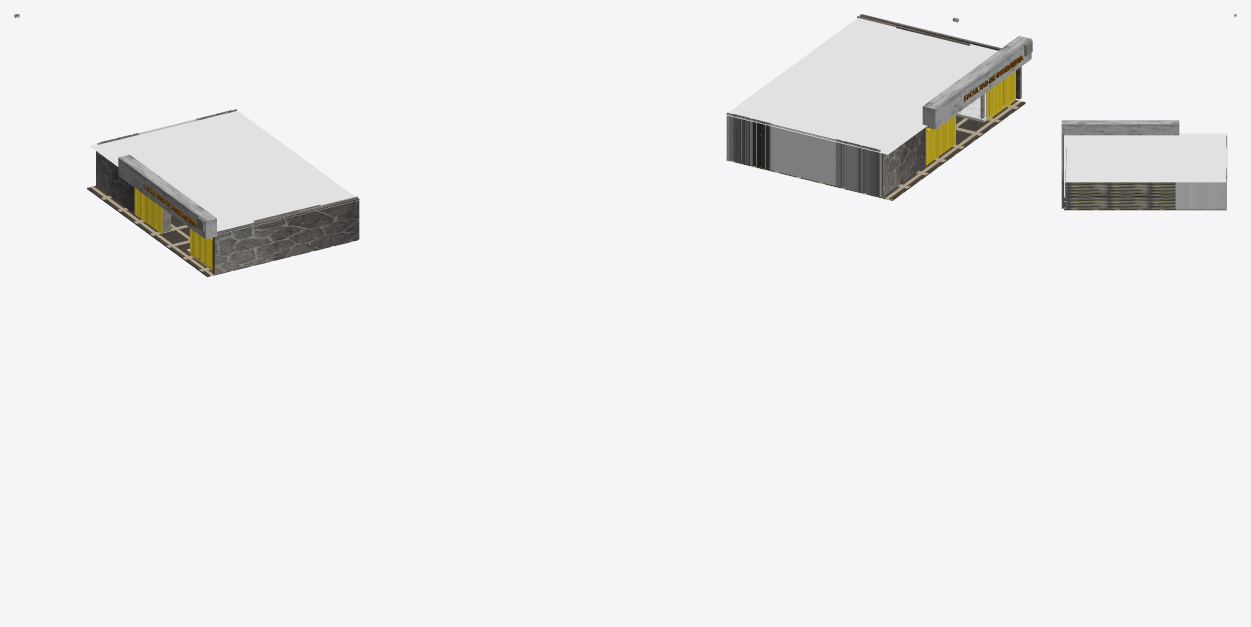
Rendered from explanadafi.obj.
3 renders of one model, left to right at view 1: azimuth 30°, elevation 25°; view 2: azimuth 150°, elevation 25°; view 3: azimuth 270°, elevation 25°, orthographic. The views are drawn at different scales.
Visible parts, largest first — view 1: Cuarto.001, Cube.005, Cube.007, PisoBase, Cube.003; view 2: Cuarto.001, Cube.007, ParedAuditorio, PisoBase, ParedAuditorio.001, ParedAuditorio.002, Cube.003, Cube.005; view 3: Cuarto.001, Cube.004, Cube.007, Cube.009, PisoBase.
Part boxes in pixels (bbox=[...]): Cuarto.001: bbox=[90, 110, 359, 235]; Cube.005: bbox=[212, 197, 359, 274]; Cube.007: bbox=[118, 154, 216, 239]; PisoBase: bbox=[87, 185, 357, 276]; Cube.003: bbox=[96, 151, 134, 213]; Cuarto.001: bbox=[725, 18, 997, 154]; Cube.007: bbox=[922, 36, 1031, 129]; ParedAuditorio: bbox=[771, 123, 836, 185]; PisoBase: bbox=[726, 100, 1025, 200]; ParedAuditorio.001: bbox=[726, 112, 772, 170]; ParedAuditorio.002: bbox=[835, 139, 880, 196]; Cube.003: bbox=[881, 127, 925, 197]; Cube.005: bbox=[859, 14, 1021, 99]; Cuarto.001: bbox=[1061, 133, 1227, 182]; Cube.004: bbox=[1065, 182, 1175, 209]; Cube.007: bbox=[1061, 120, 1179, 135]; Cube.009: bbox=[1175, 182, 1226, 209]; PisoBase: bbox=[1064, 198, 1226, 210].
Size of the model in its own units: 3337 by 4924 by 1719.
